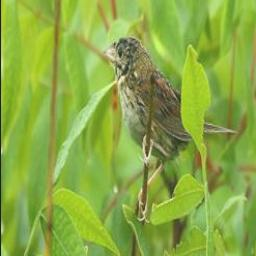Sparrow: (104, 33, 240, 227)
